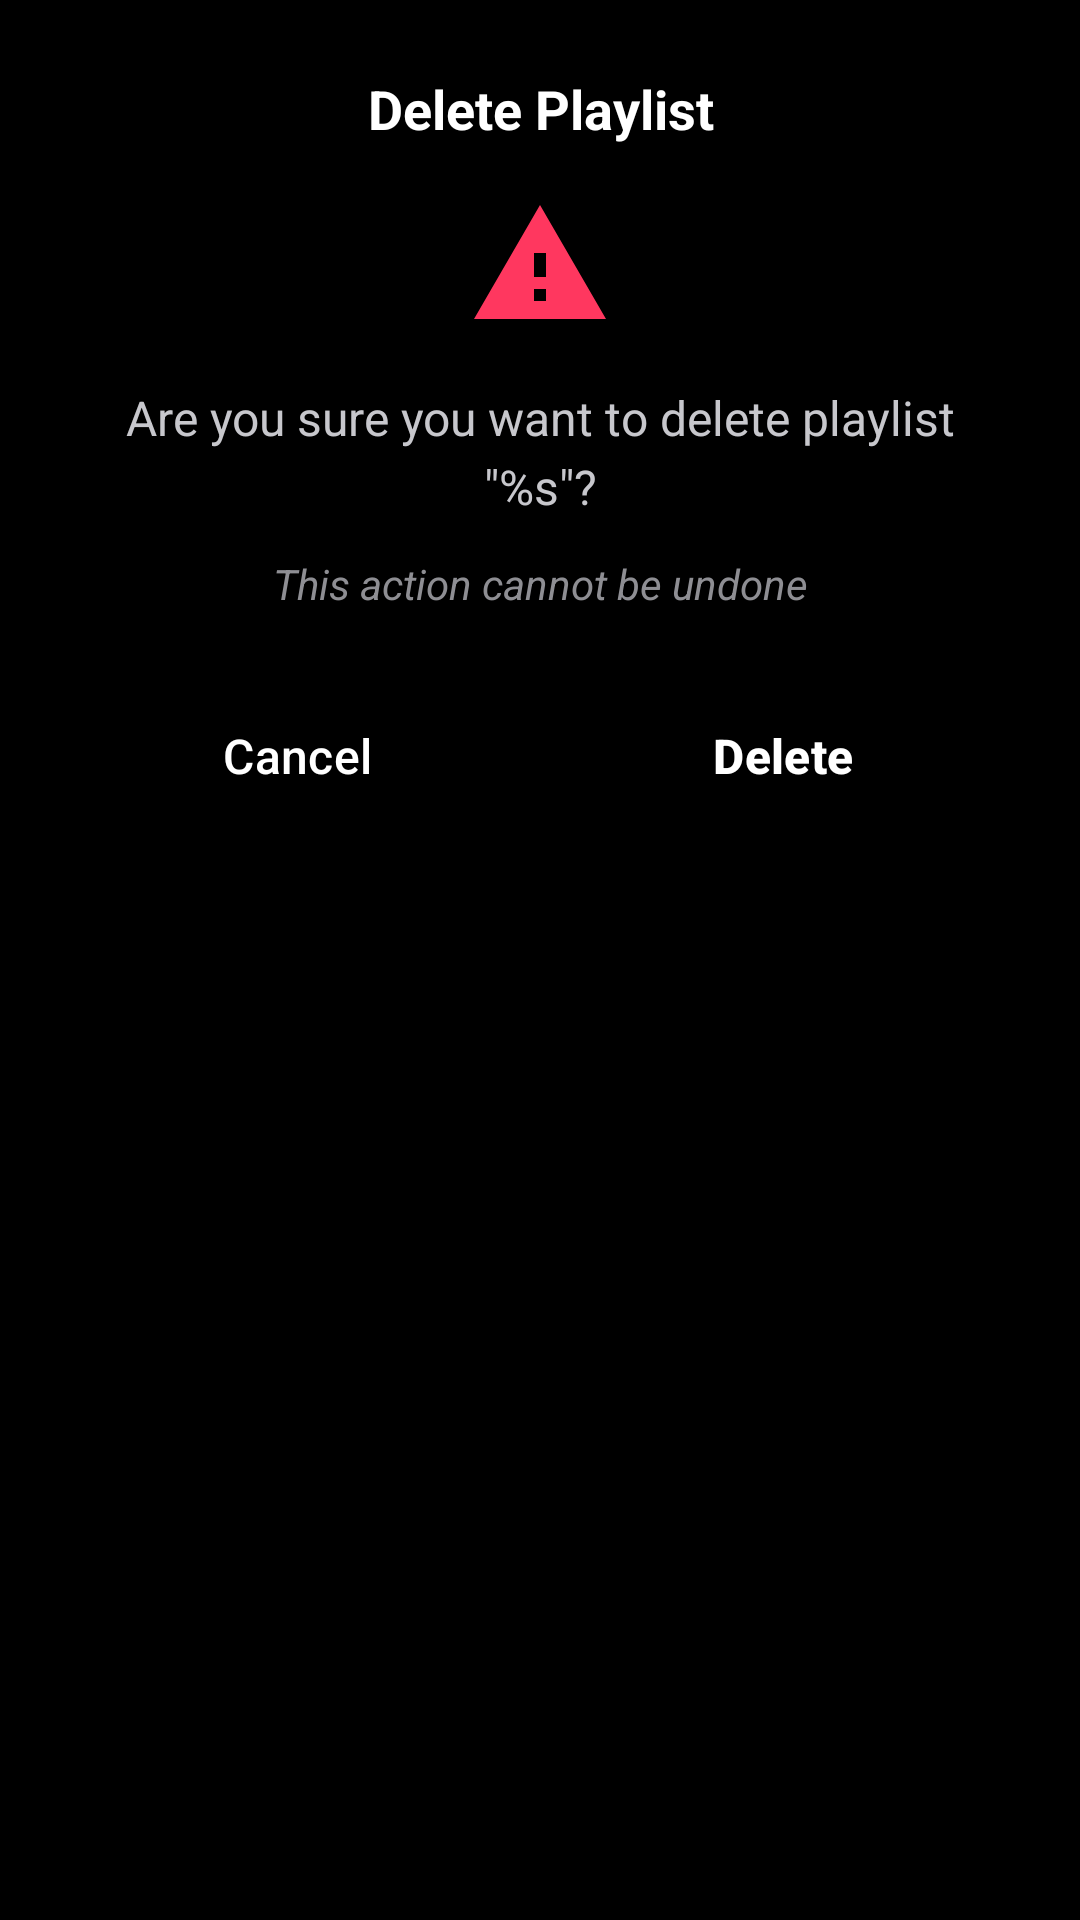

Named icons in this screenshot (1080x1920) and their centers, [x,y]:
warning: [540,262]
